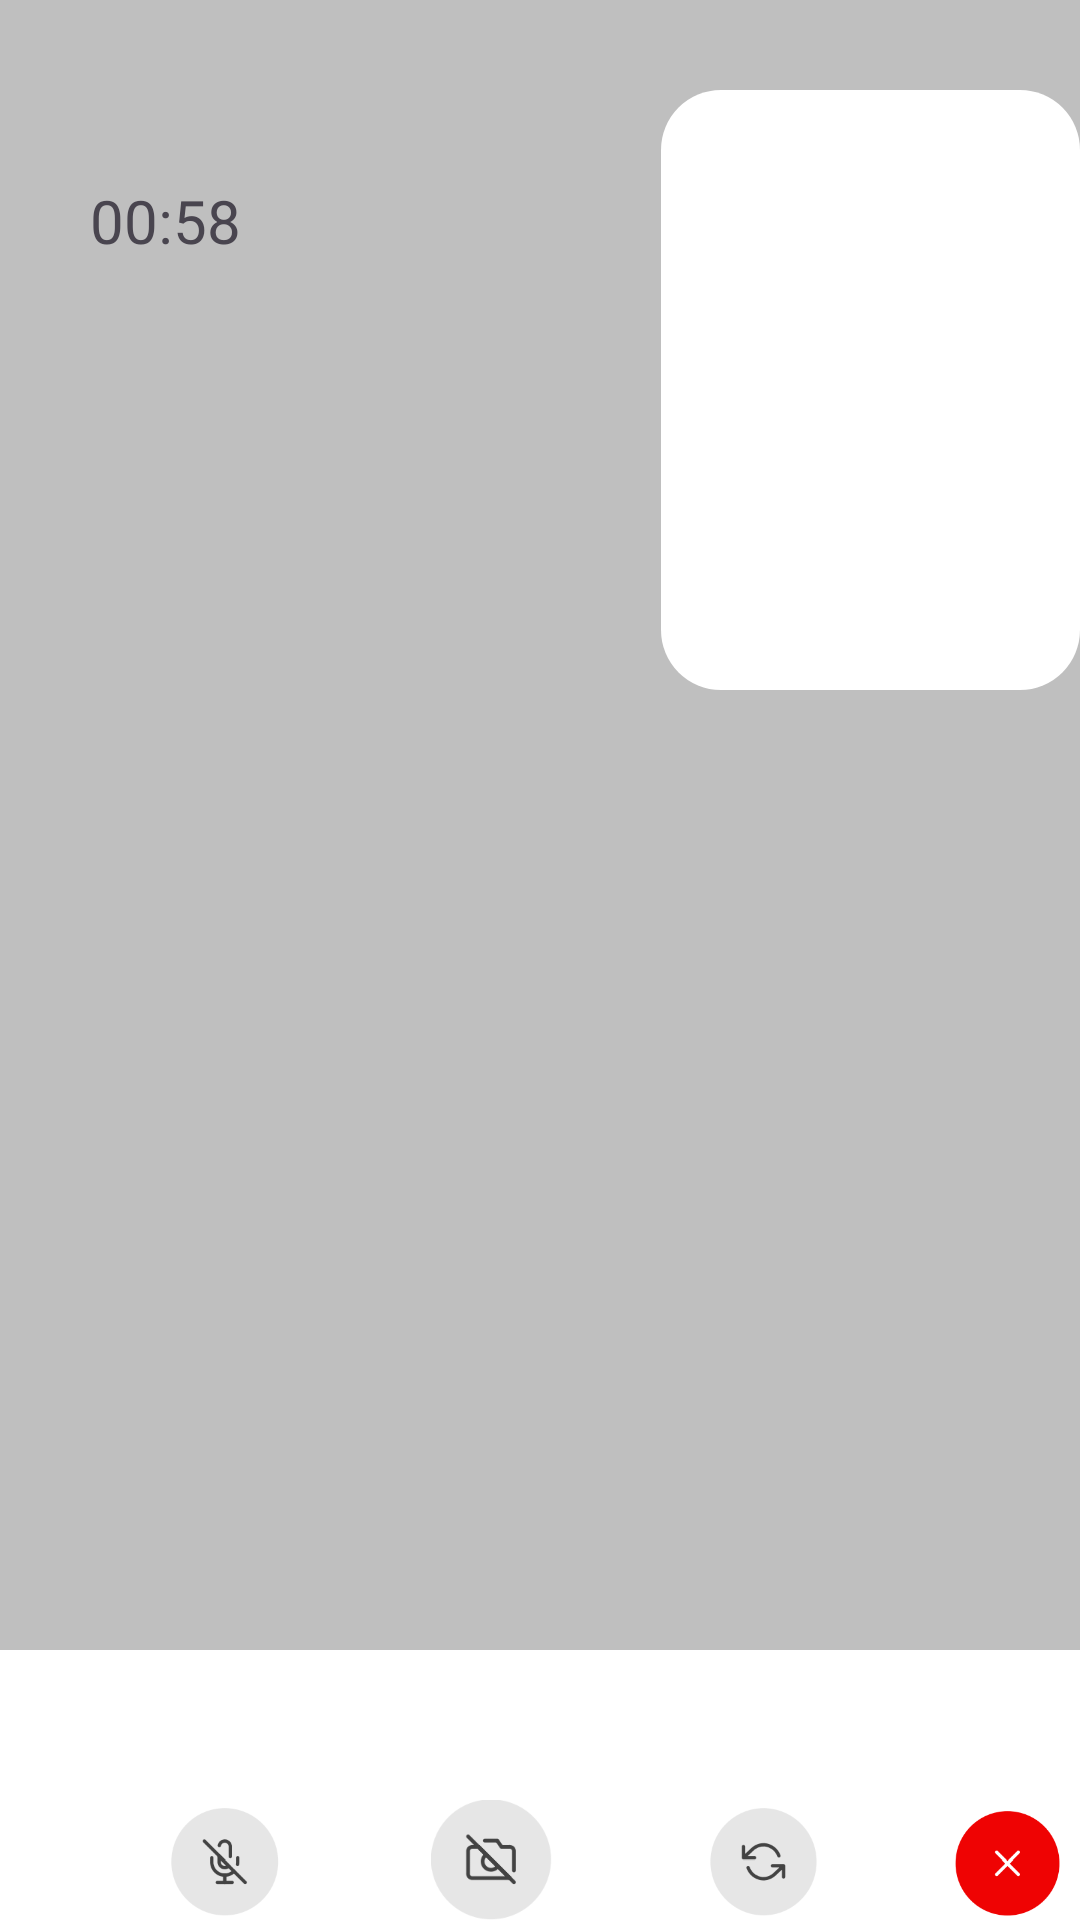

Where icons sit on this 1080px x 1920px app screen, as [x1,y1,x2,y2]:
cam: [431,1800,550,1919]
end: [955,1811,1060,1916]
mic: [172,1809,278,1915]
turn: [711,1809,816,1915]
